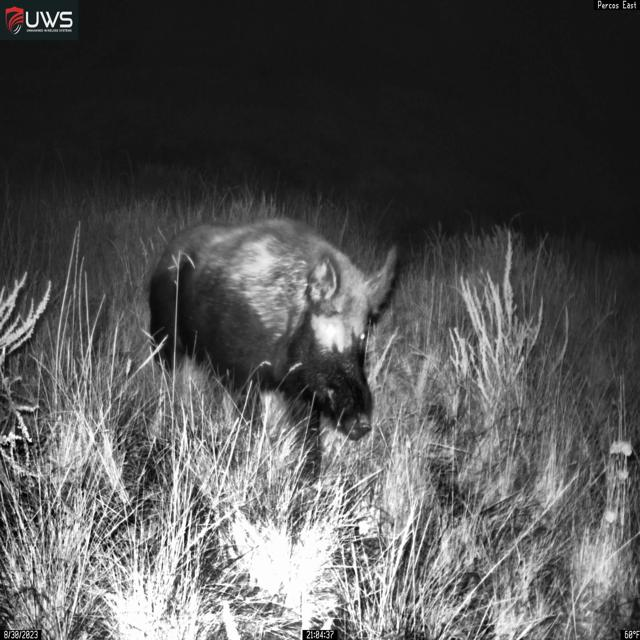pig: (147, 216, 399, 482)
